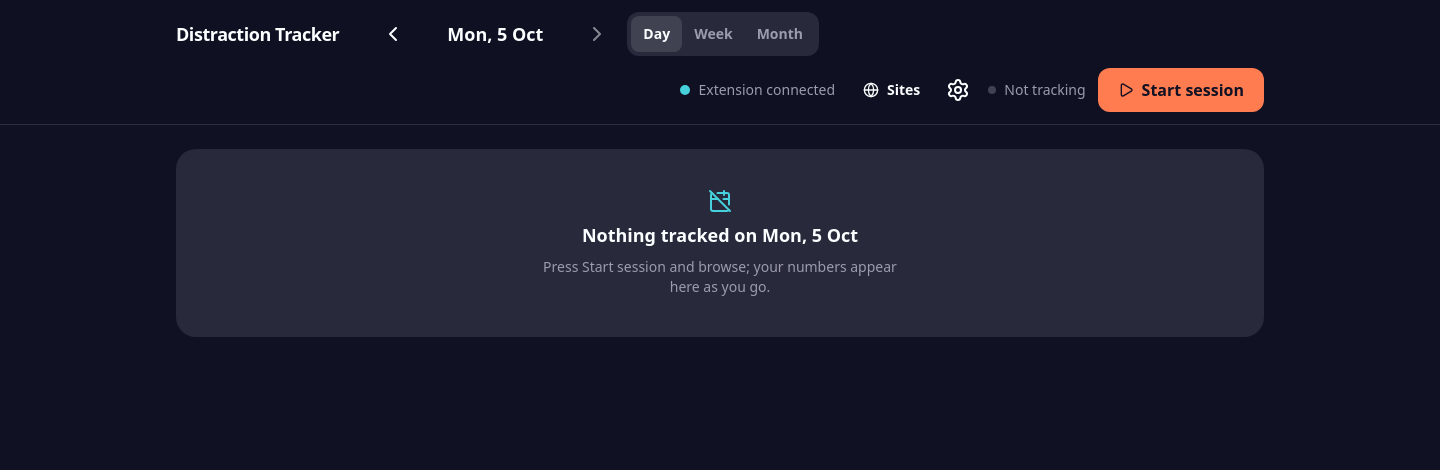
Scenario: period navigation › switches to the week and month views and steps by that unit
Click the radio button labelled "Week" at (713, 34), box 682,16 -> 745,52
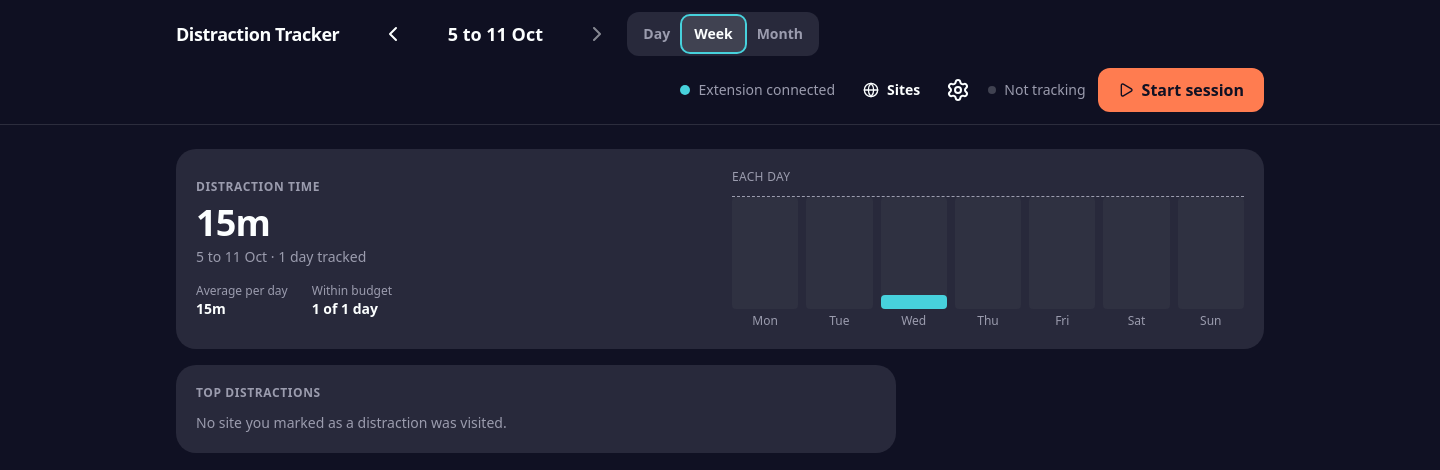
expect the heading "5 to 11 Oct" is shown: met, box 448,22 -> 543,46
Click the button named "Previous week" at (393, 34), box 371,12 -> 415,56
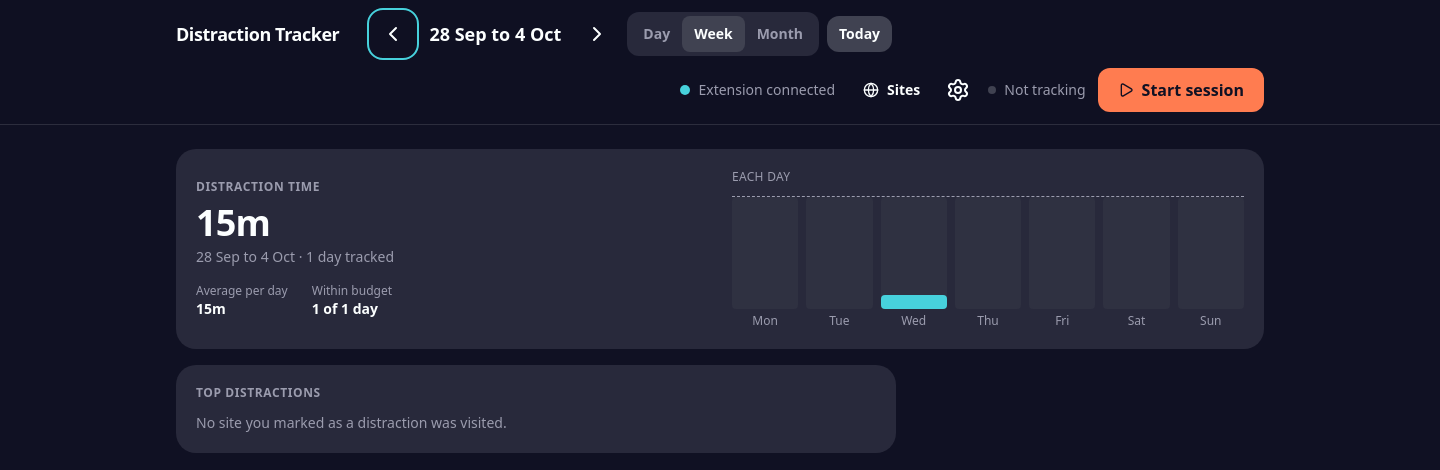
expect the heading "28 Sep to 4 Oct" is shown: met, box 423,20 -> 567,48
Click the radio button labelled "Month" at (780, 34), box 745,16 -> 815,52
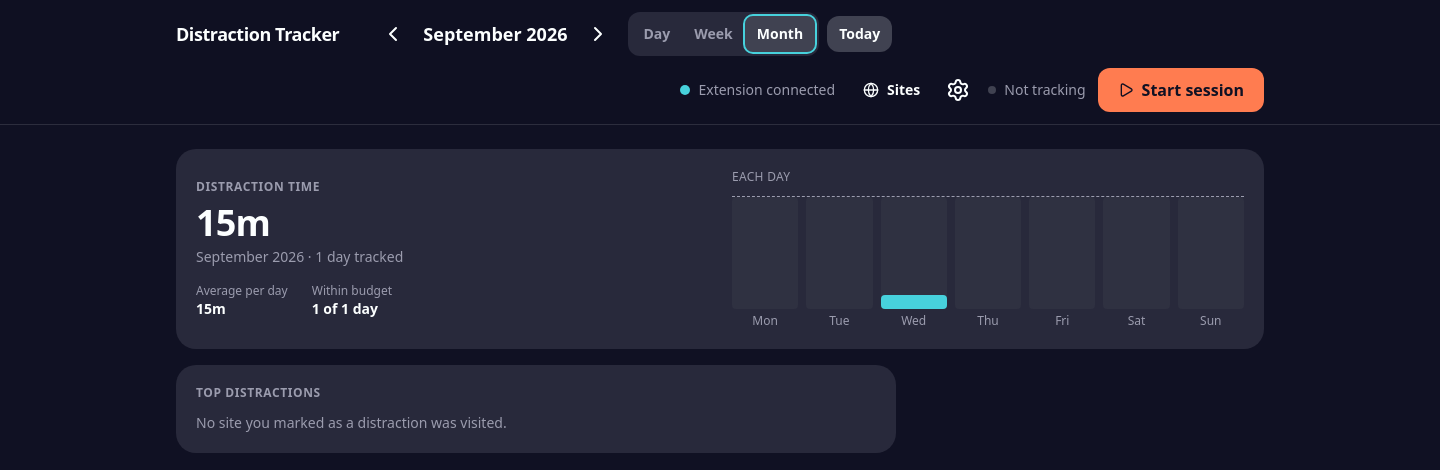
expect the heading "September 2026" is shown: met, box 423,20 -> 568,48
